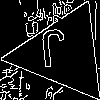J: (37, 28, 70, 78)
